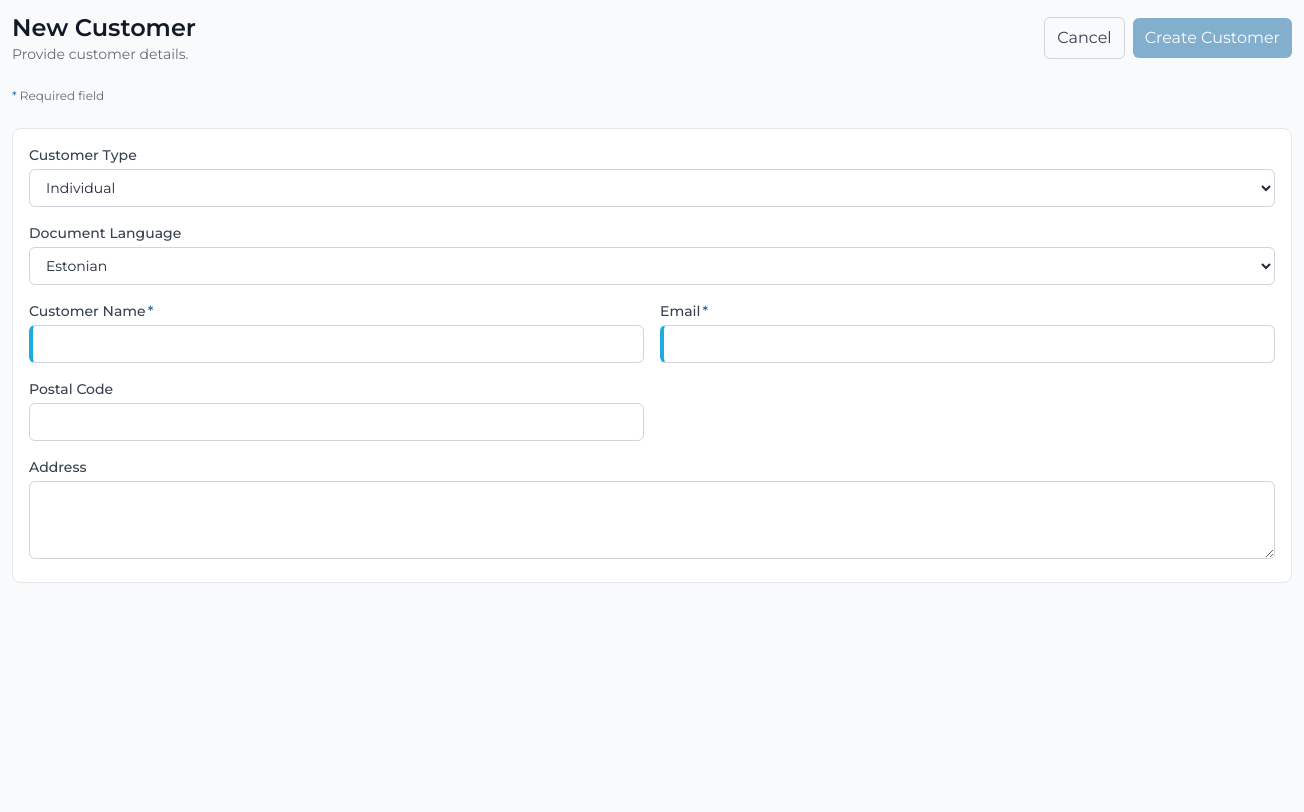
CustomerForm classification › shows and requires Company Name and Tax/VAT ID when Business is selected
Select "Business" in the dropdown labelled "Customer Type" at point(652, 188), box [29, 169, 1275, 207]
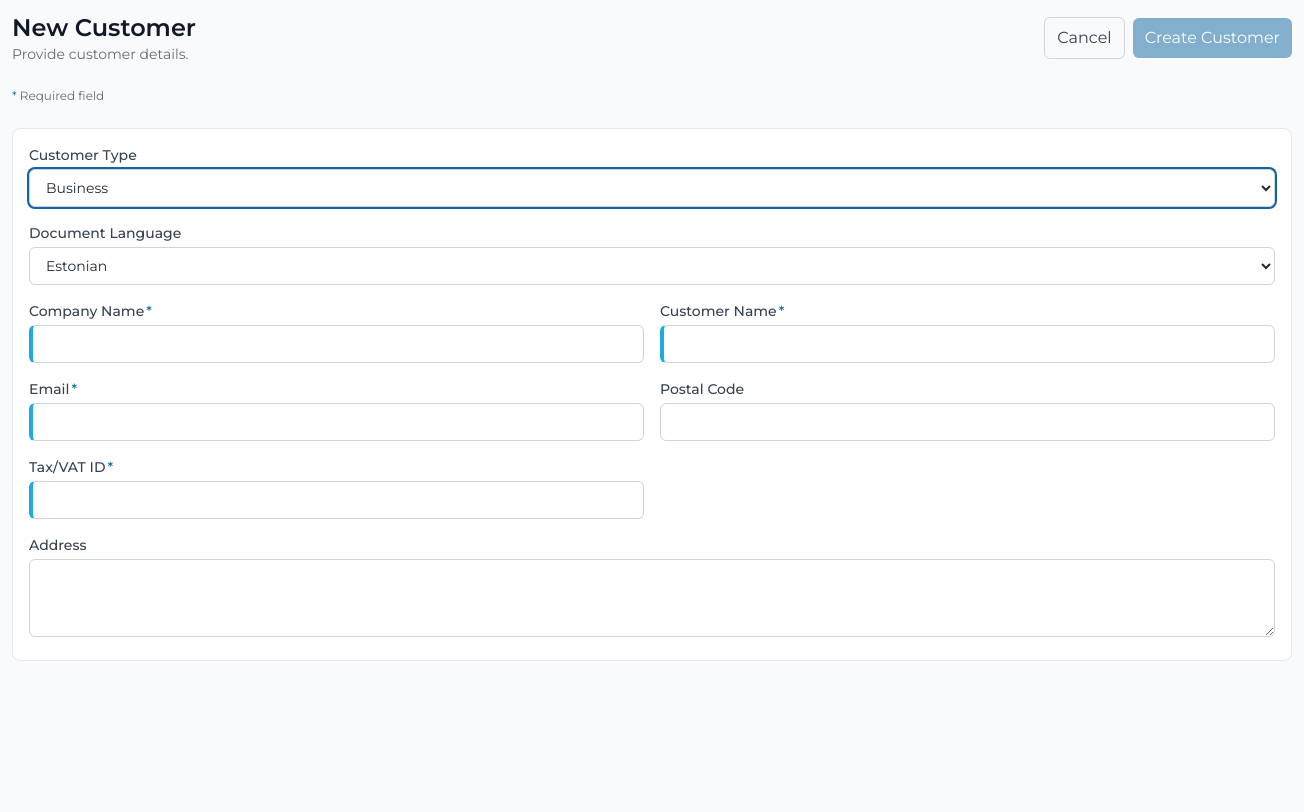
Check: the field labelled "Company Name" is shown, box [29, 325, 644, 363]
Check: the field labelled "Tax/VAT ID" is shown, box [29, 481, 644, 519]
Type "Jane Doe" into the field labelled "Customer Name" at point(968, 344), box [660, 325, 1275, 363]
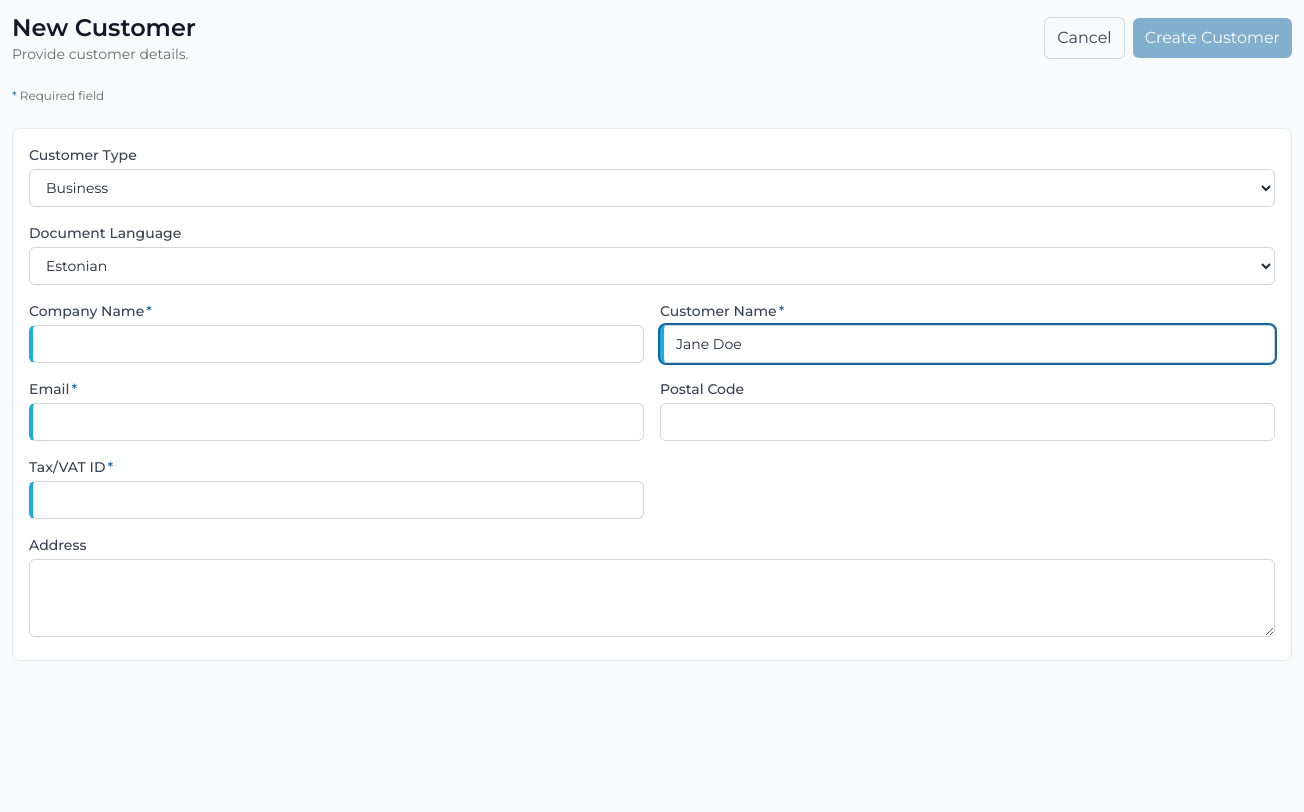
Type "jane@example.com" into the field labelled "Email" at point(336, 422), box [29, 403, 644, 441]
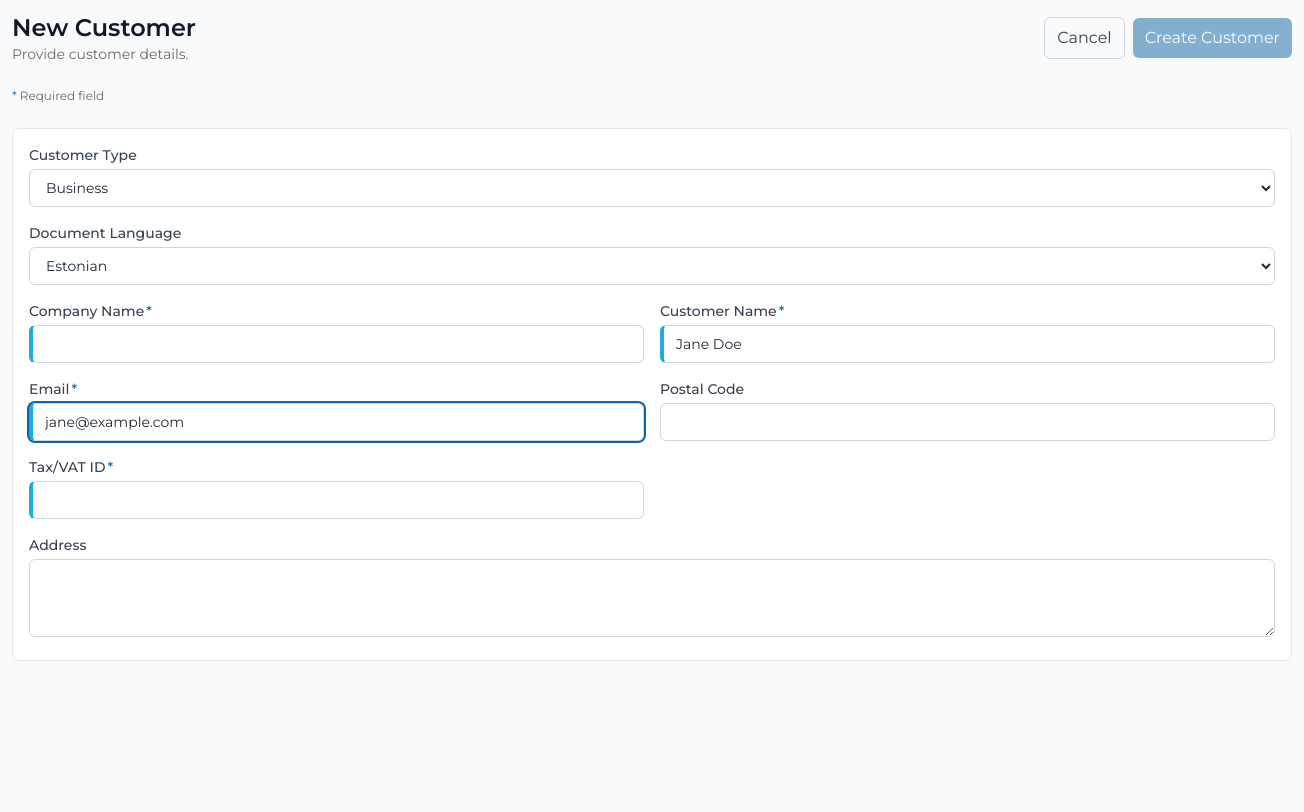
Check: the button "Create Customer" is disabled, box [1133, 18, 1292, 58]
Type "Acme Corp" into the field labelled "Company Name" at point(336, 344), box [29, 325, 644, 363]
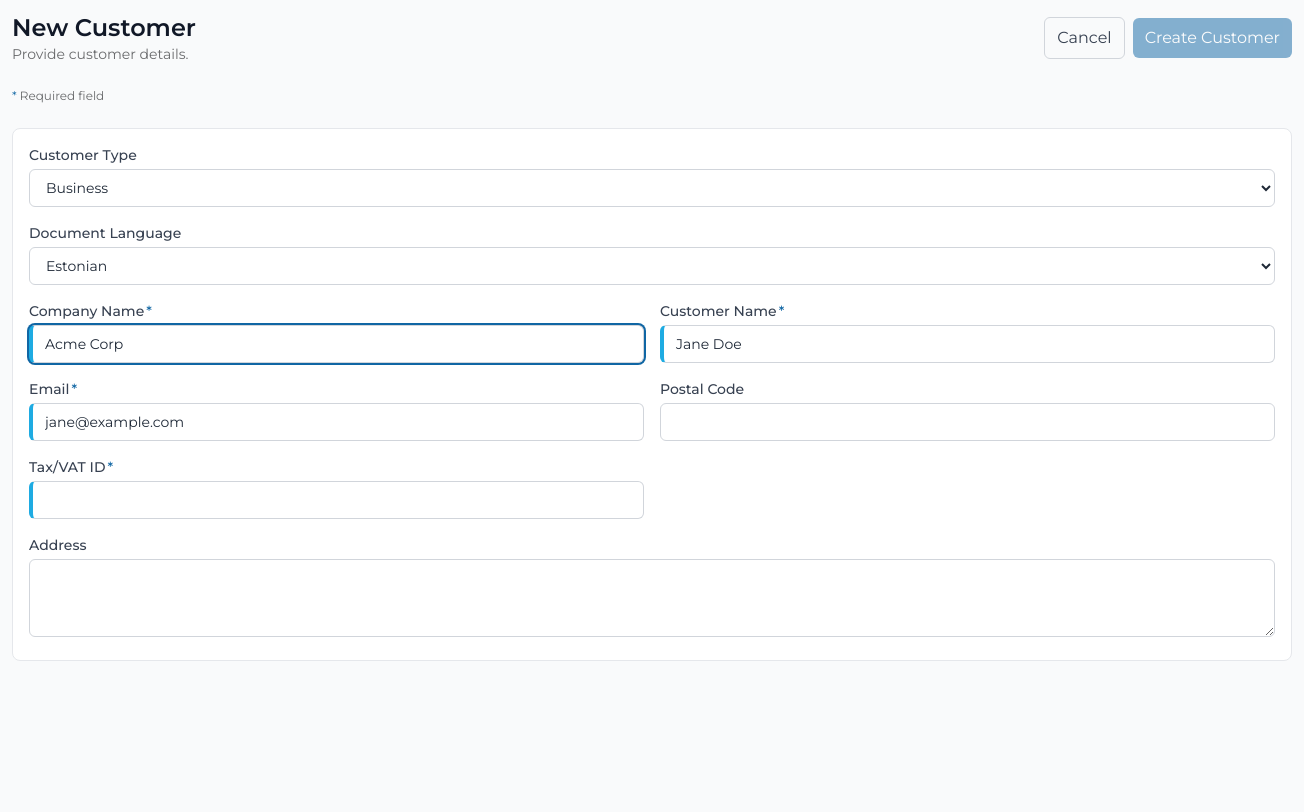
Type "DE999888777" into the field labelled "Tax/VAT ID" at point(336, 500), box [29, 481, 644, 519]
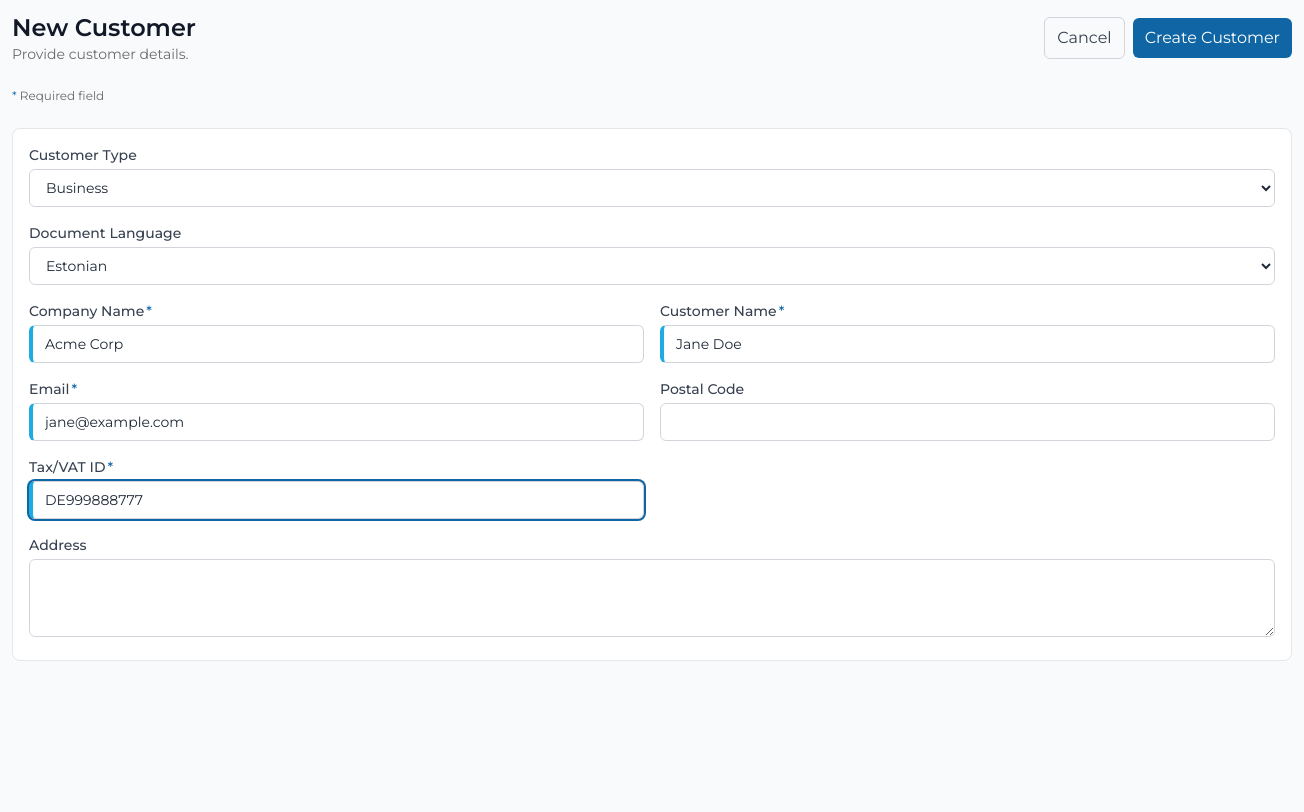
Check: the button "Create Customer" is enabled, box [1133, 18, 1292, 58]
